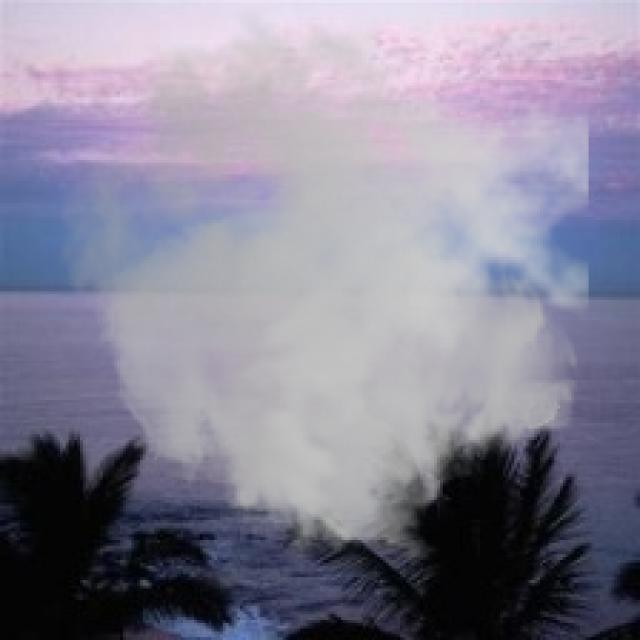smoke: (57, 6, 589, 568)
